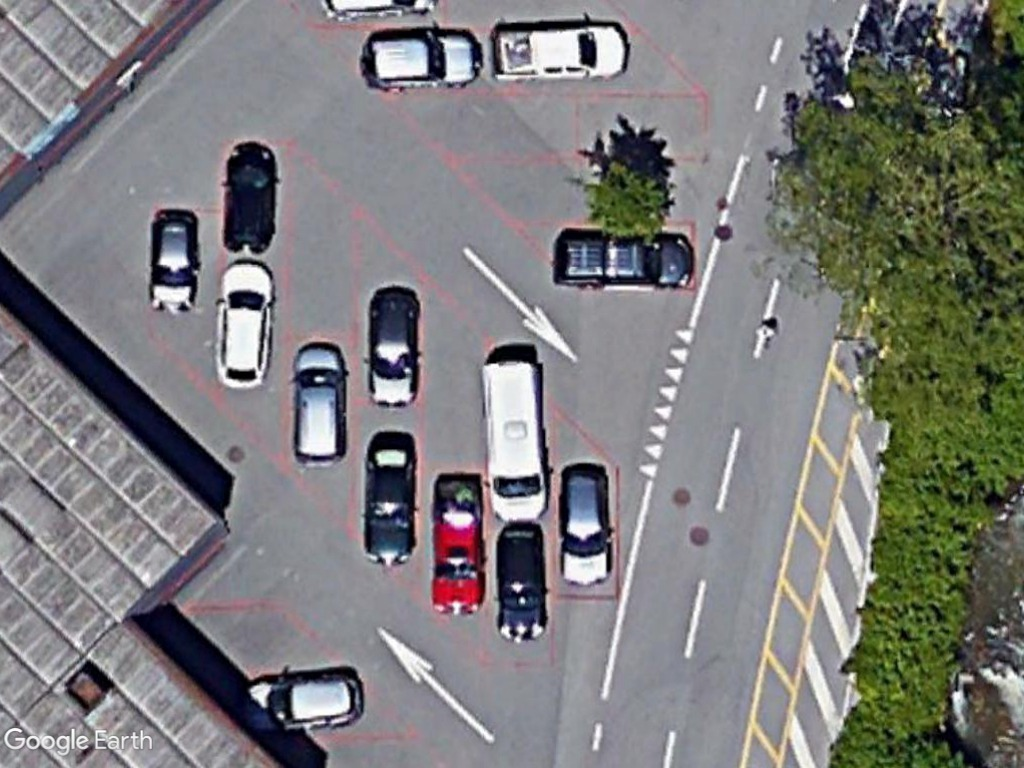car: (207, 254, 278, 393), (228, 667, 367, 735), (357, 21, 486, 92), (489, 22, 633, 82), (358, 433, 421, 570), (290, 340, 353, 467), (361, 286, 423, 410), (559, 461, 616, 589), (145, 203, 203, 323)
van: (473, 354, 554, 523)
